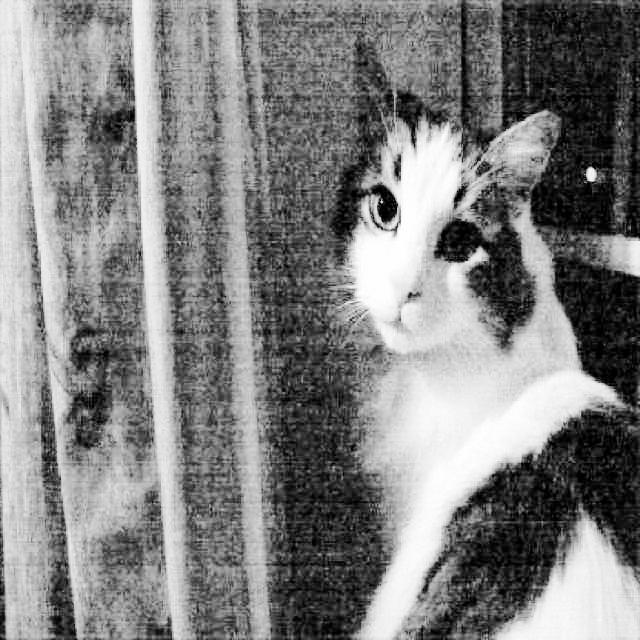Cat: (315, 14, 640, 640)
